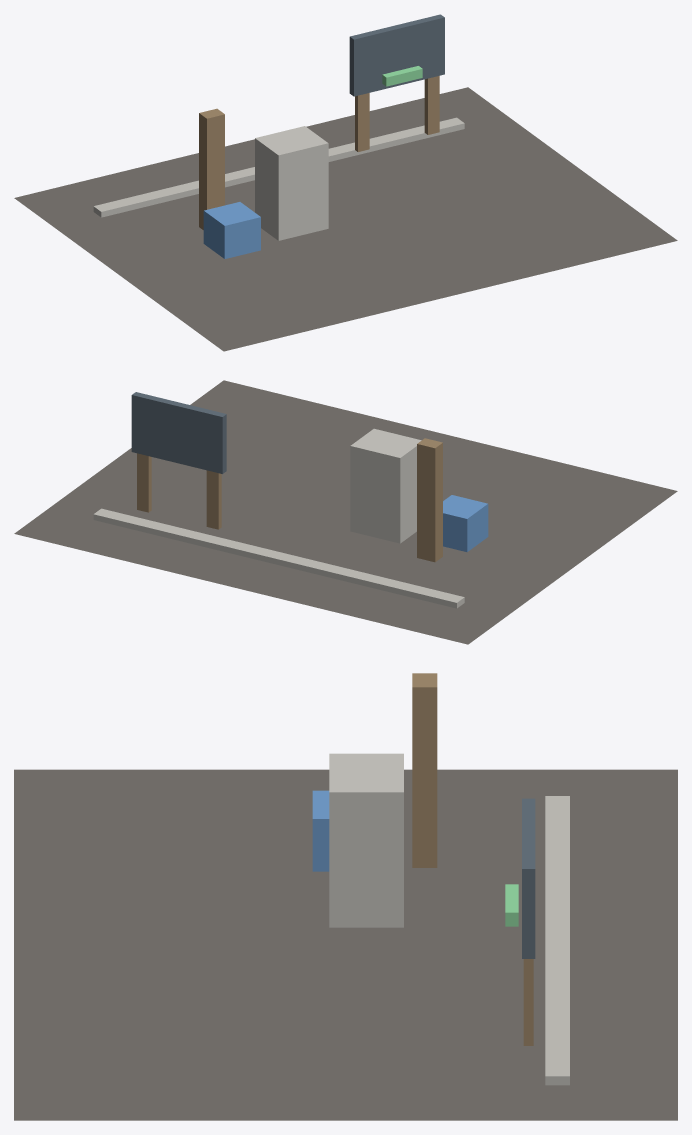
The model's file is world.glb.
The picture shows the model from 3 angles, top to bottom: view 1: azimuth 30°, elevation 25°; view 2: azimuth 150°, elevation 25°; view 3: azimuth 270°, elevation 25°; orthographic projection. The views are drawn at different scales.
Parts seen in each view (by area): view 1: chore_opaque_mesh, chore_emissive_mesh; view 2: chore_opaque_mesh; view 3: chore_opaque_mesh.
Part boxes in pixels (x1,y1,x2,y2): chore_opaque_mesh: (14, 14, 677, 351); chore_emissive_mesh: (382, 66, 422, 86); chore_opaque_mesh: (14, 380, 677, 644); chore_opaque_mesh: (14, 673, 677, 1120).
Size of the model in its own units: 10 by 2.6 by 8.
